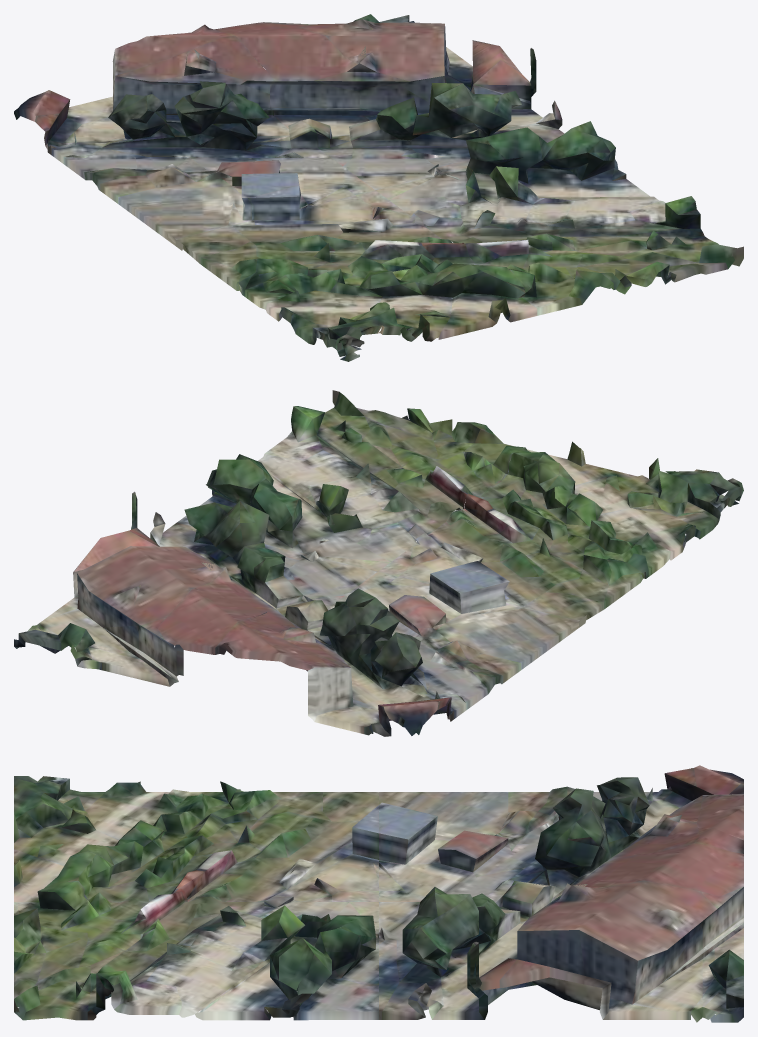
3 views of the same model, one above another, from view 1: azimuth 30°, elevation 25°; view 2: azimuth 150°, elevation 25°; view 3: azimuth 270°, elevation 25° (orthographic). The views are drawn at different scales.
Parts seen in each view (by area): view 1: 304362727043617266_0; view 2: 304362727043617266_0; view 3: 304362727043617266_0.
Part boxes in pixels (left/top/right/bottom): 304362727043617266_0: left=14, top=14, right=743, bottom=361; 304362727043617266_0: left=14, top=390, right=743, bottom=736; 304362727043617266_0: left=14, top=765, right=743, bottom=1022.
Bounding box in the file's own units: 112 × 18.48 × 153.
Materials: 1 (1 with a texture image).
